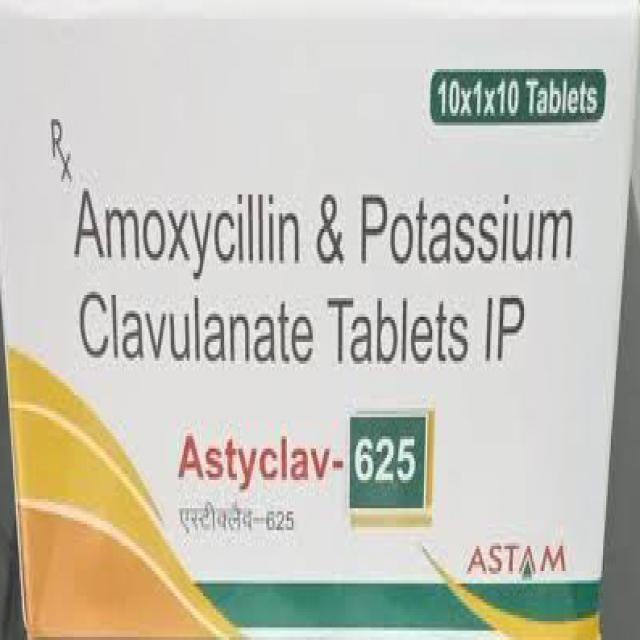drug-name: (176, 411, 419, 490)
